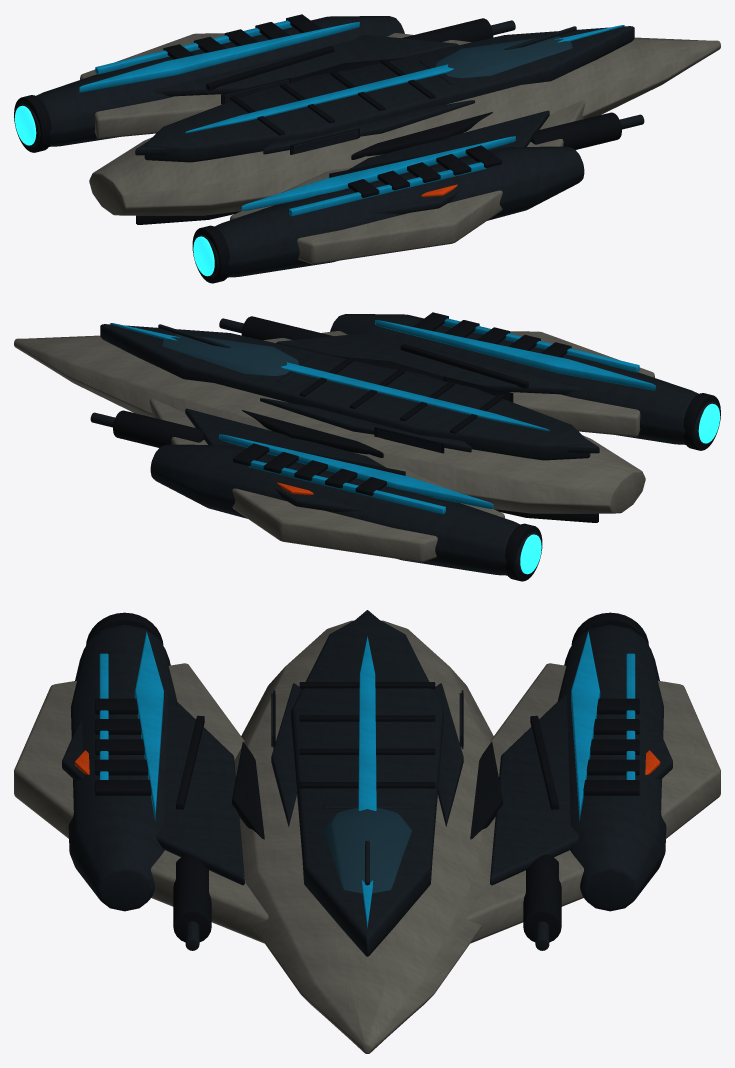
Rendered from wasp_production_v1_lod1.glb.
3 renders of one model, top to bottom at view 1: azimuth 30°, elevation 25°; view 2: azimuth 150°, elevation 25°; view 3: azimuth 270°, elevation 25°, orthographic. The views are drawn at different scales.
Parts seen in each view (by area): view 1: LOD1_Hull_Armor, LOD1_Hull, LOD1_Mechanical, LOD1_Accent, LOD1_Canopy, LOD1_Thruster; view 2: LOD1_Hull_Armor, LOD1_Hull, LOD1_Mechanical, LOD1_Accent, LOD1_Canopy, LOD1_Thruster; view 3: LOD1_Hull_Armor, LOD1_Hull, LOD1_Mechanical, LOD1_Accent, LOD1_Canopy.
Part boxes in pixels (x1,y1,x2,y2): LOD1_Hull_Armor: (14, 16, 644, 277); LOD1_Hull: (80, 33, 720, 264); LOD1_Mechanical: (14, 14, 621, 283); LOD1_Accent: (79, 20, 624, 216); LOD1_Canopy: (436, 36, 572, 77); LOD1_Thruster: (15, 105, 214, 276); LOD1_Hull_Armor: (90, 314, 720, 575); LOD1_Hull: (14, 331, 654, 562); LOD1_Mechanical: (113, 312, 720, 581); LOD1_Accent: (110, 318, 655, 514); LOD1_Canopy: (162, 334, 298, 375); LOD1_Thruster: (520, 403, 719, 574); LOD1_Hull_Armor: (62, 610, 672, 956); LOD1_Hull: (14, 620, 720, 1053); LOD1_Mechanical: (86, 612, 648, 942); LOD1_Accent: (99, 631, 635, 928); LOD1_Canopy: (323, 808, 411, 893).
Size of what is drawn, in the model's own units: 22 by 3.17 by 16.16.
Materials: 7 (5 with a texture image).
